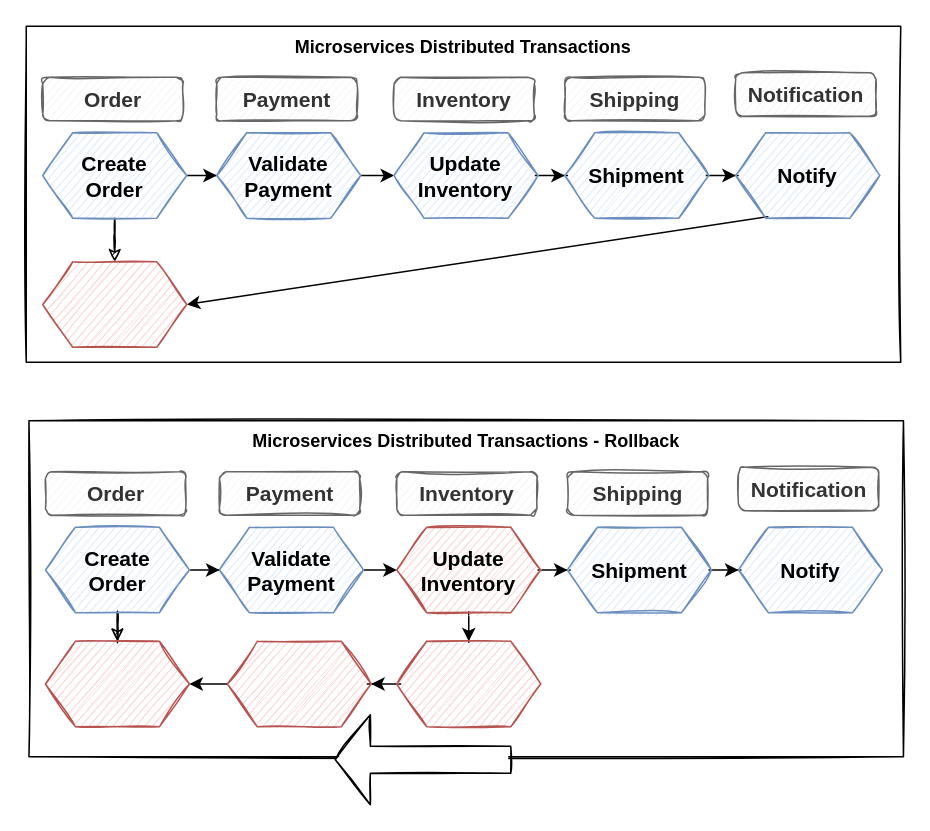
Image size: 930x831. Some labels were removed from this diagram. Each missing label, with the centre of its shape:
"Cancel Order" goes at (x=116, y=683).
"Cancel Payment" goes at (x=298, y=683).
"Complete Order" goes at (x=114, y=303).
"Rollback" goes at (x=422, y=759).
"Rollback Inventory" goes at (x=468, y=683).
